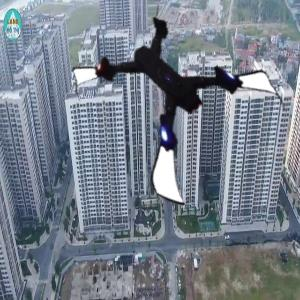drone: (93, 4, 277, 188)
